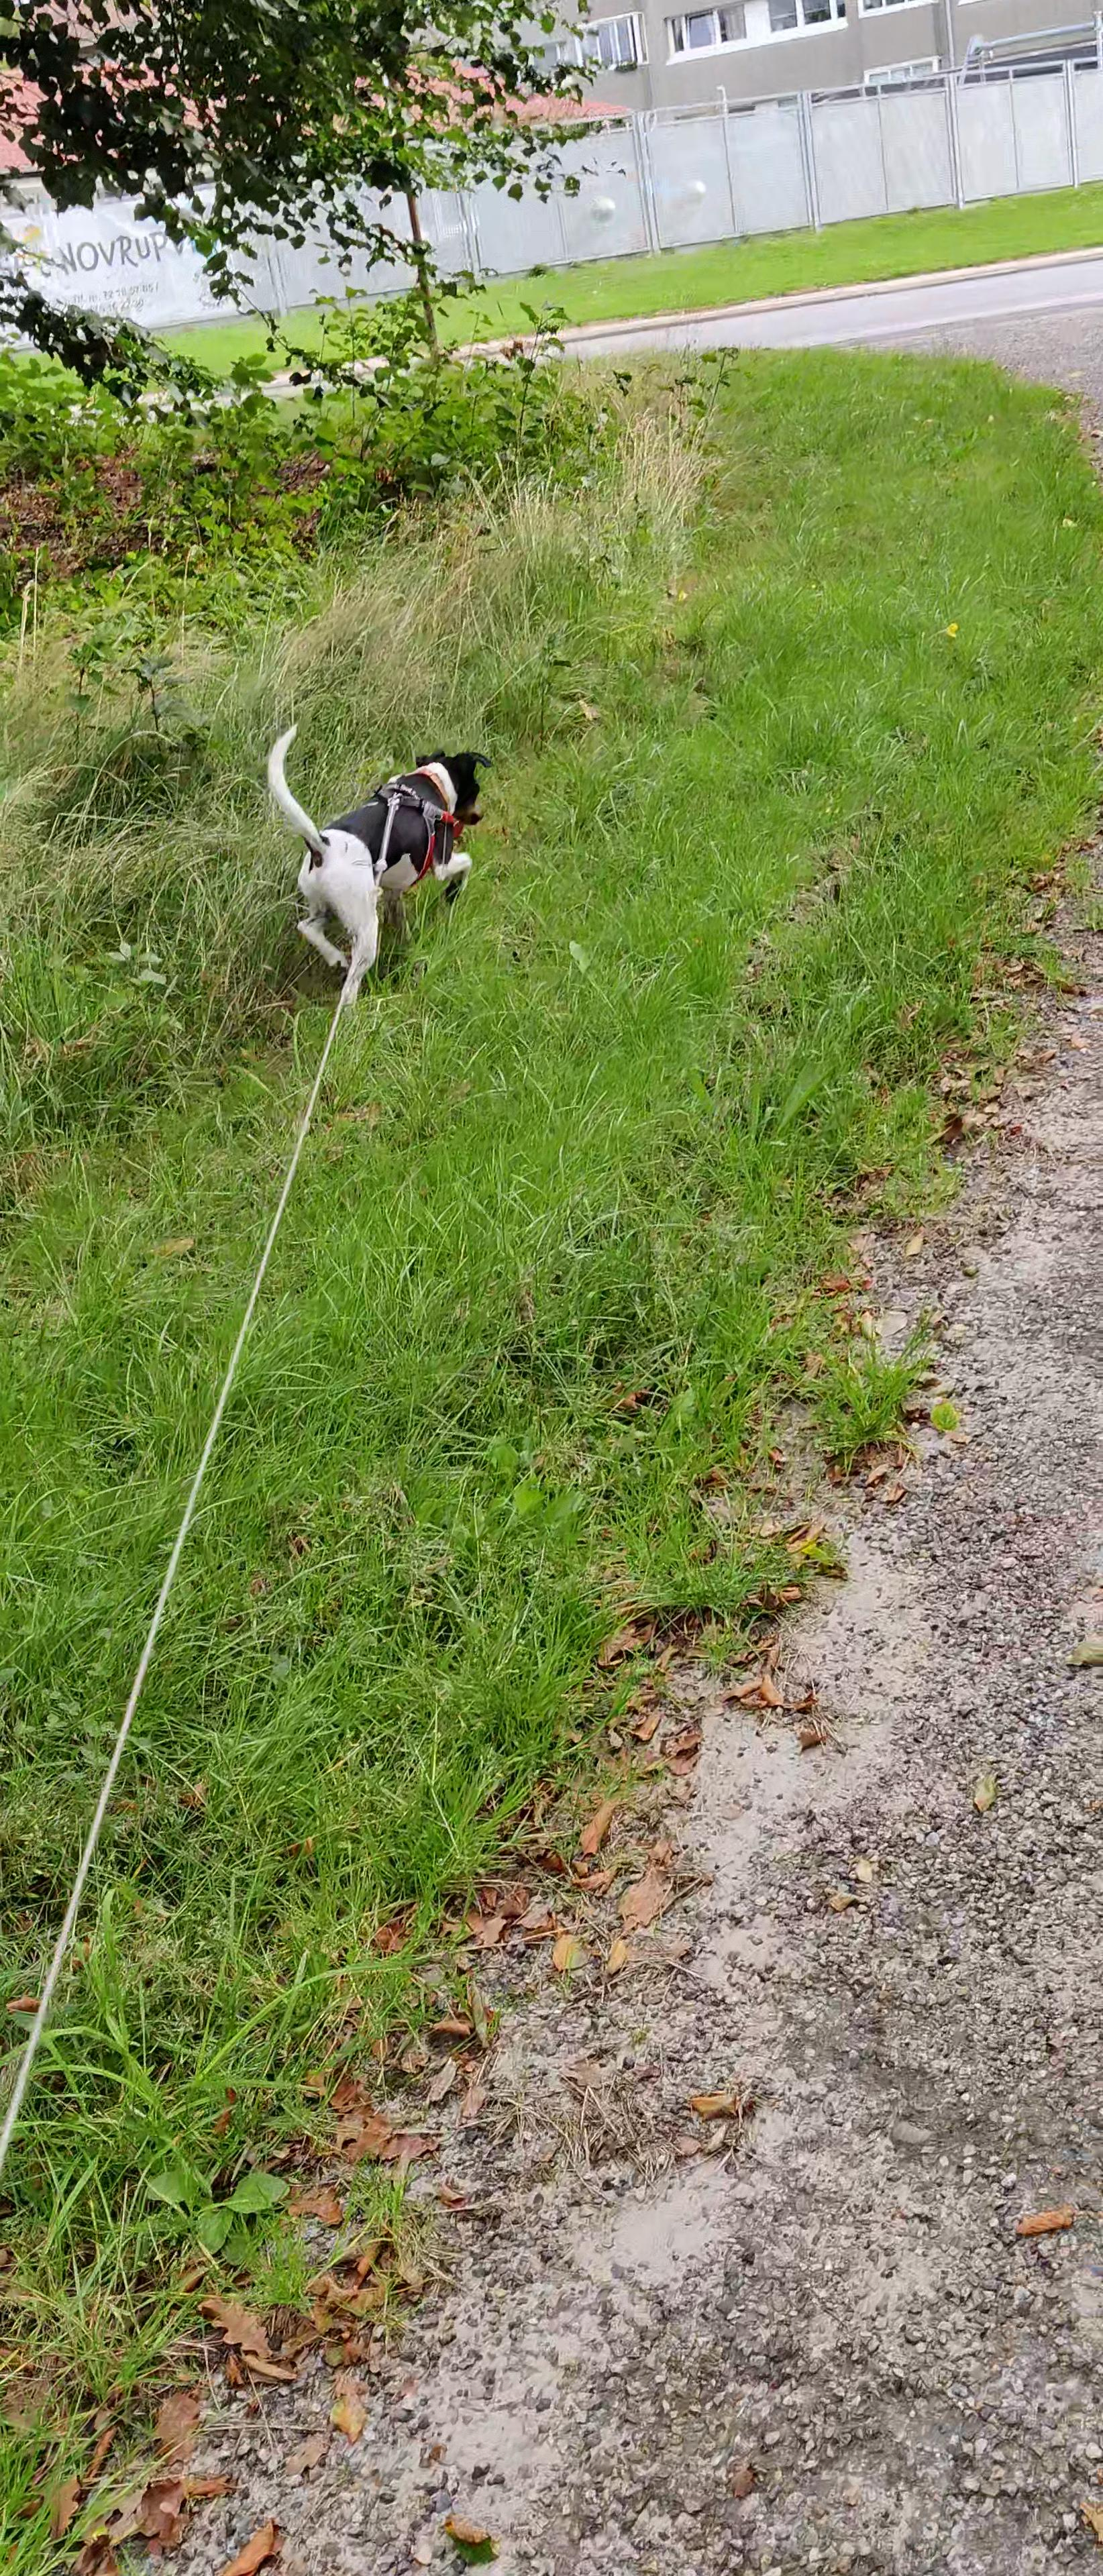Dog: (256, 721, 495, 1023)
